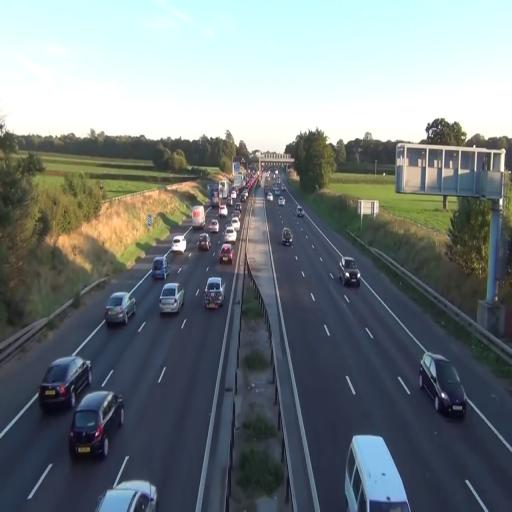vehicle: (345, 434, 411, 512), (68, 388, 124, 460), (419, 351, 466, 418), (38, 354, 92, 411), (94, 479, 158, 512), (68, 409, 108, 461), (104, 291, 136, 328), (159, 282, 185, 315), (203, 276, 224, 310), (340, 255, 362, 287), (151, 256, 166, 283), (217, 244, 234, 267), (172, 234, 187, 252), (198, 232, 210, 253), (281, 226, 293, 246)
